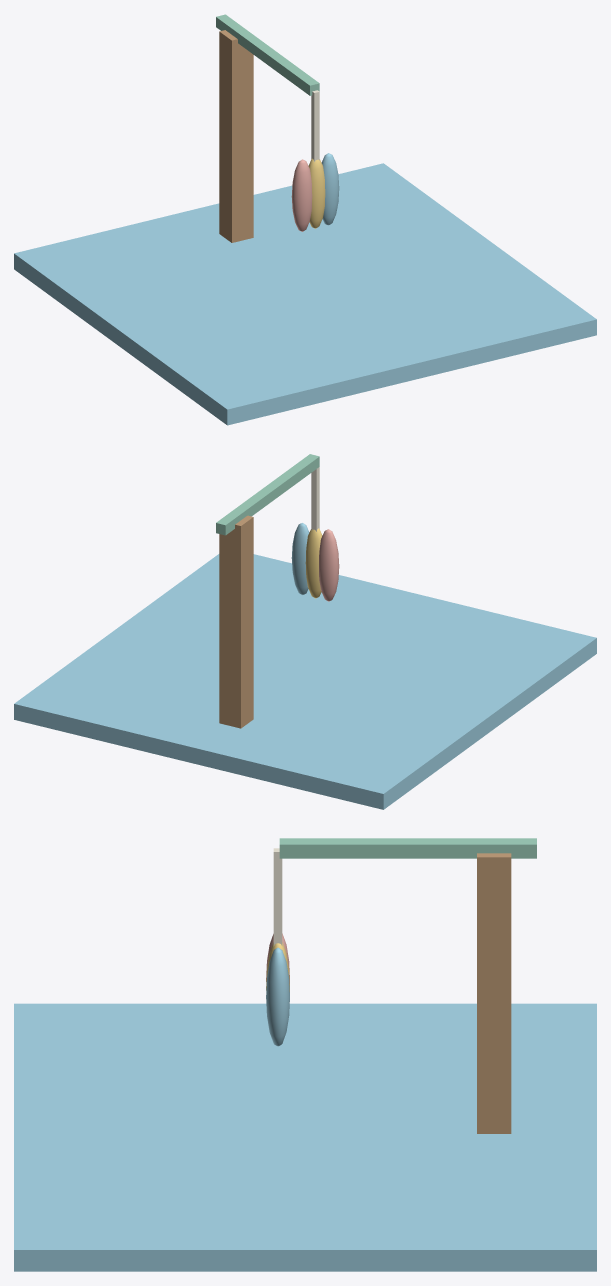
Rendered from cat-feather.glb.
3 renders of one model, top to bottom at view 1: azimuth 30°, elevation 25°; view 2: azimuth 150°, elevation 25°; view 3: azimuth 270°, elevation 25°, orthographic. The views are drawn at different scales.
Visible parts, largest first — view 1: pounce mat, toy support, wand, felt feather.001, felt feather, felt feather.002, dangling string; view 2: pounce mat, toy support, wand, felt feather.001, felt feather, felt feather.002, dangling string; view 3: pounce mat, toy support, wand, felt feather, dangling string.
Part boxes in pixels (x1,y1,x2,y2): pounce mat: (14, 163, 596, 425); toy support: (219, 30, 253, 242); wand: (216, 14, 319, 95); felt feather.001: (291, 159, 312, 231); felt feather: (321, 153, 339, 225); felt feather.002: (308, 158, 325, 228); dangling string: (311, 90, 319, 161); pounce mat: (14, 554, 596, 809); toy support: (219, 515, 253, 728); wand: (216, 454, 319, 535); felt feather.001: (319, 529, 339, 601); felt feather: (291, 523, 309, 595); felt feather.002: (305, 528, 322, 598); dangling string: (311, 467, 319, 531); pounce mat: (14, 1003, 596, 1271); toy support: (477, 853, 511, 1133); wand: (279, 838, 536, 858); felt feather: (266, 947, 289, 1046); dangling string: (273, 848, 282, 946).
Bounding box in the file's own units: 1.7 × 0.9875 × 1.7.
